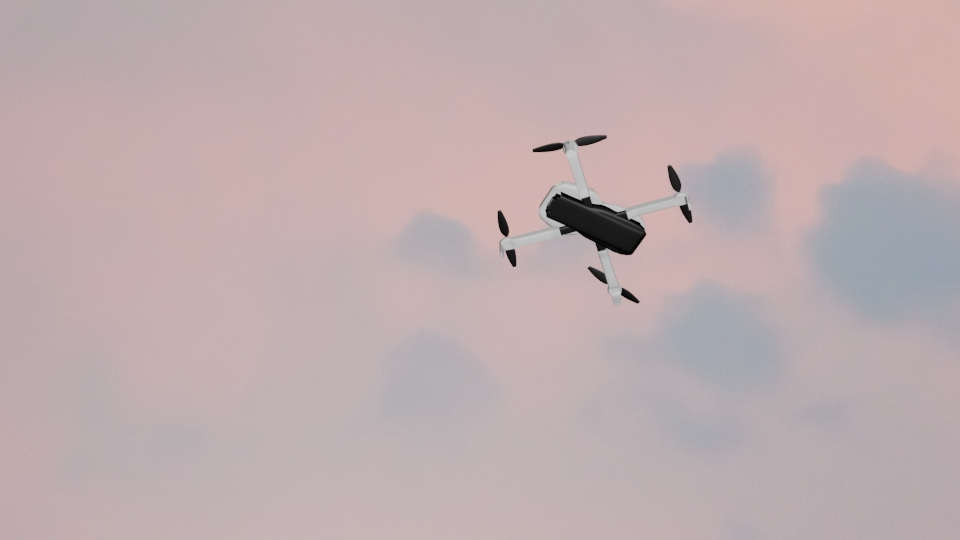drone: (495, 135, 692, 309)
